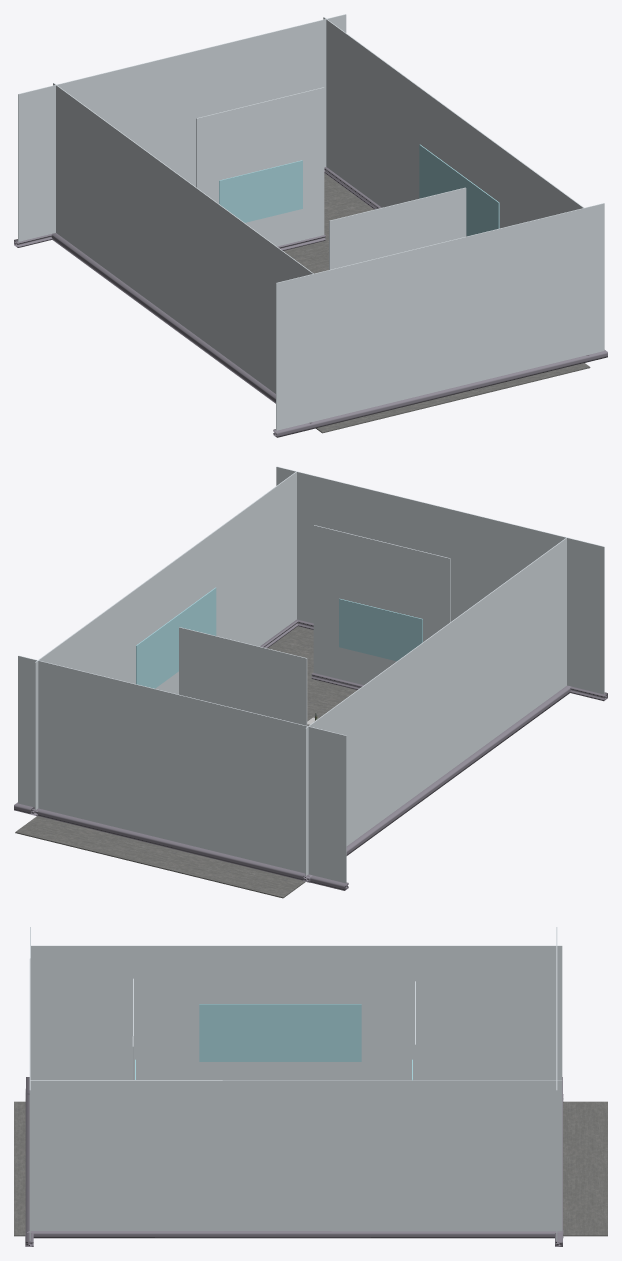
Rendered from Interiors_WhitePlain_Room.glb.
The picture shows the model from 3 angles, top to bottom: view 1: azimuth 30°, elevation 25°; view 2: azimuth 150°, elevation 25°; view 3: azimuth 270°, elevation 25°; orthographic projection. The views are drawn at different scales.
Parts seen in each view (by area): view 1: Wall R.002, Wall R.004, Wall R.001, Wall R.003, Wall R.005, Wall R.006, Floor, Wall R.009, Wall R.010, Cube.004, Cube.006; view 2: Wall R.001, Wall R.004, Wall R.002, Wall R.003, Wall R.006, Wall R.005, Floor, Wall R.007, Wall R.010, Cube.018, Cube.006; view 3: Wall R.003, Wall R.004, Wall R.008, Floor, Cube.005, Cube.004, Wall R.001, Wall R.002.
Part boxes in pixels (x1,y1,x2,y2): Wall R.002: (276,203,604,430); Wall R.004: (53,83,313,393); Wall R.001: (18,14,346,241); Wall R.003: (323,17,583,236); Wall R.005: (196,87,324,246); Wall R.006: (329,187,466,269); Floor: (283,173,590,433); Wall R.009: (219,160,302,222); Wall R.010: (419,144,499,236); Cube.004: (273,350,607,437); Cube.006: (51,233,312,423); Wall R.001: (18,655,346,883); Wall R.004: (305,537,566,875); Wall R.002: (276,466,604,694); Wall R.003: (35,471,296,809); Wall R.006: (313,525,450,684); Wall R.005: (179,627,307,725); Floor: (15,626,356,898); Wall R.007: (339,598,422,661); Wall R.010: (136,587,216,688); Cube.018: (14,802,348,890); Cube.006: (303,685,571,882); Wall R.003: (30,1080,562,1231); Wall R.004: (30,945,562,1080); Wall R.008: (199,1004,361,1061); Floor: (14,1101,607,1236); Cube.005: (27,1230,563,1238); Cube.004: (25,1077,33,1246); Wall R.001: (556,927,557,1240); Wall R.002: (29,927,30,1240).
Size of the model in its own units: 44.45 by 19.86 by 67.77.
Materials: 6 (2 with a texture image).
